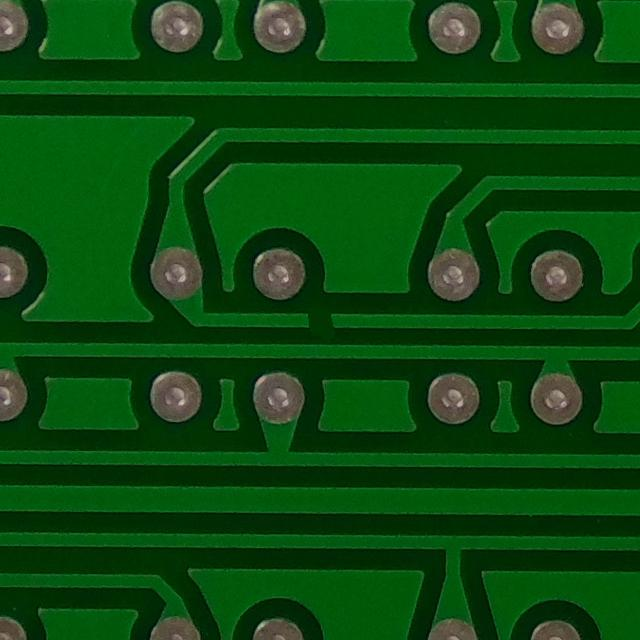open_circuit: (296, 300, 345, 340)
